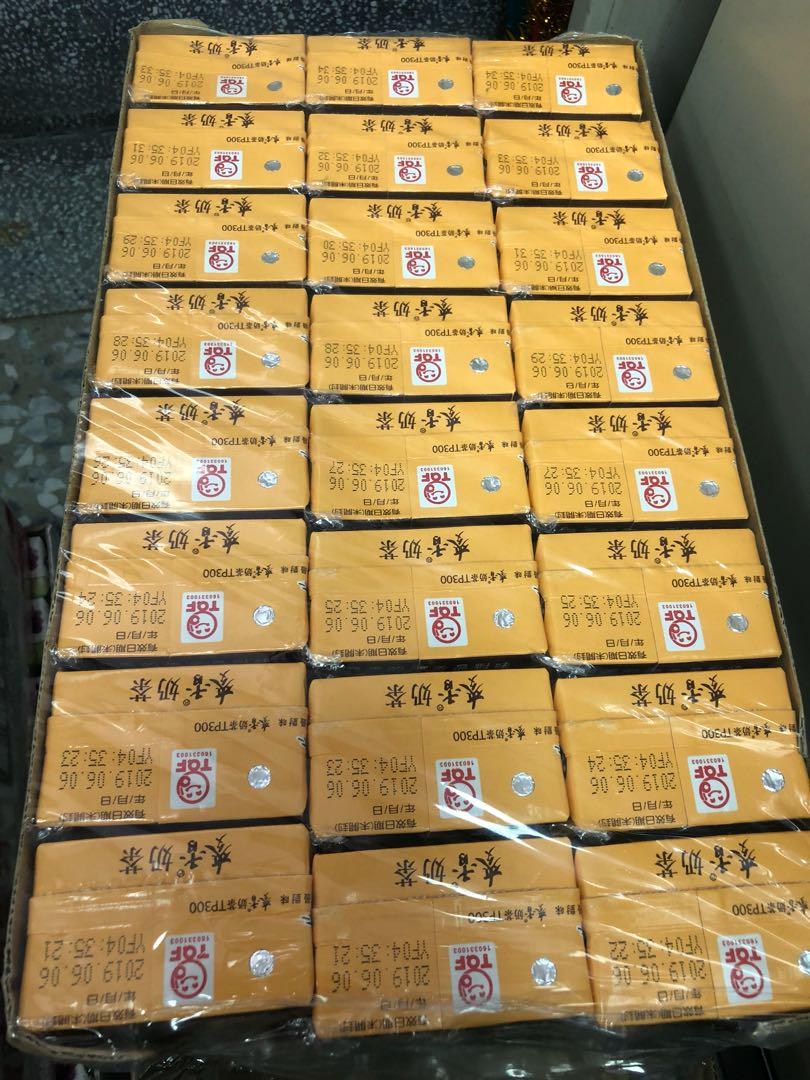milk tea: (310, 842, 593, 1035), (28, 825, 311, 1018), (578, 831, 810, 1031), (557, 667, 810, 840), (34, 663, 303, 823), (304, 670, 573, 830), (541, 528, 786, 662), (308, 527, 553, 661), (62, 518, 307, 652), (80, 398, 311, 509), (300, 404, 531, 515), (523, 405, 754, 516), (514, 296, 725, 401), (310, 294, 521, 399), (100, 285, 311, 390), (107, 194, 300, 280), (301, 197, 494, 283), (499, 208, 692, 294), (488, 118, 669, 196), (310, 110, 491, 188), (123, 108, 304, 186), (134, 33, 303, 109), (302, 34, 471, 110), (475, 37, 644, 113)
